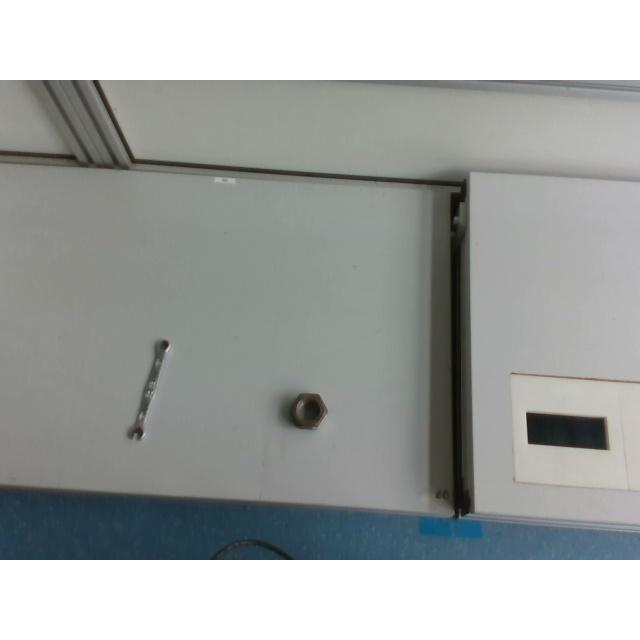M30: (288, 391, 328, 429)
Wrench: (125, 338, 171, 439)
